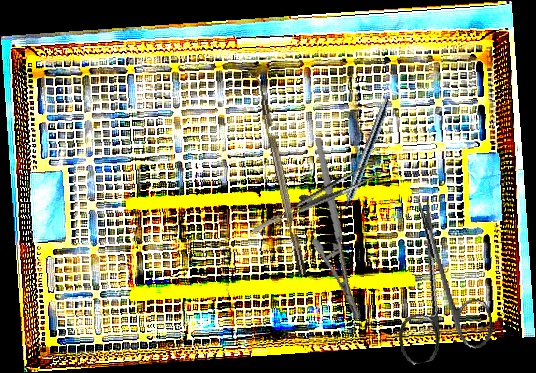Chopper: (245, 69, 307, 278)
Handpiece: (334, 96, 393, 222)
Iris Scissors: (373, 188, 498, 367)
Needle Holder: (293, 137, 383, 319)
Tissue Forceps: (243, 158, 390, 234)
